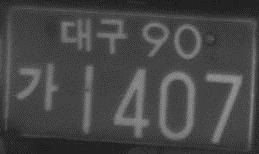0: (157, 69, 196, 141), (174, 22, 203, 60)
1: (79, 60, 96, 136)
4: (110, 67, 150, 137)
7: (202, 71, 245, 144)
9: (140, 19, 169, 57)
가: (15, 62, 60, 113)
대구_O: (59, 15, 128, 55)
